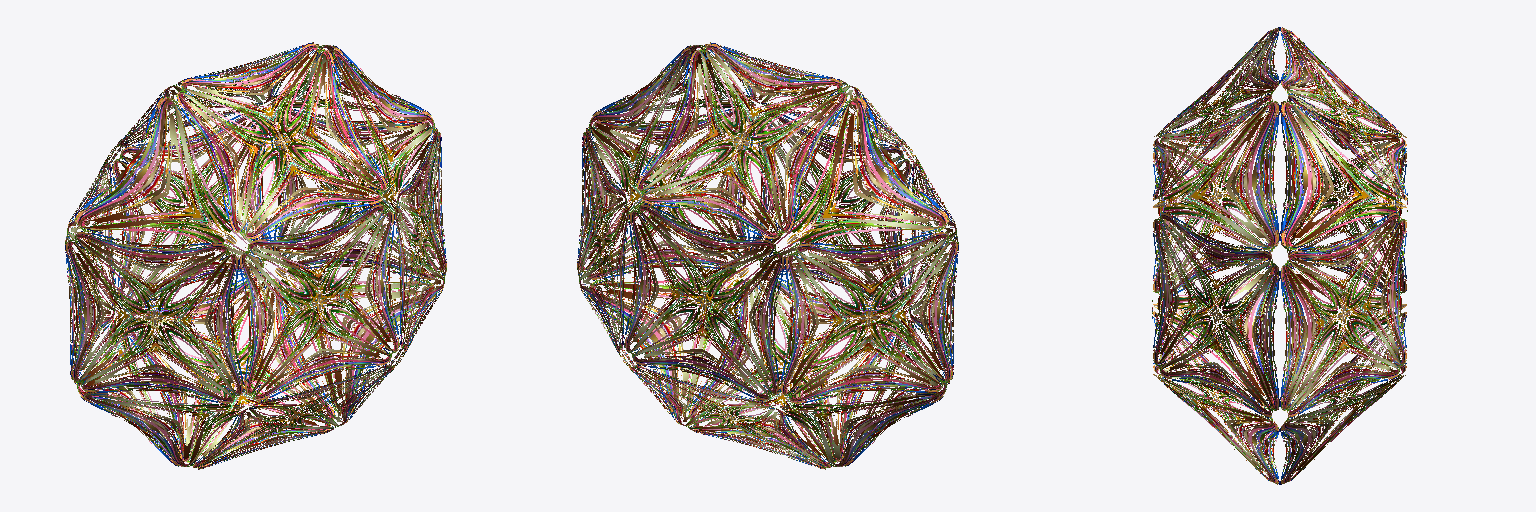
3 views of the same model, side by side, from view 1: azimuth 30°, elevation 25°; view 2: azimuth 150°, elevation 25°; view 3: azimuth 270°, elevation 25° (orthographic).
Bounding box in the file's own units: 2.11 × 2.11 × 1.22.
1 materials, 1 textured.